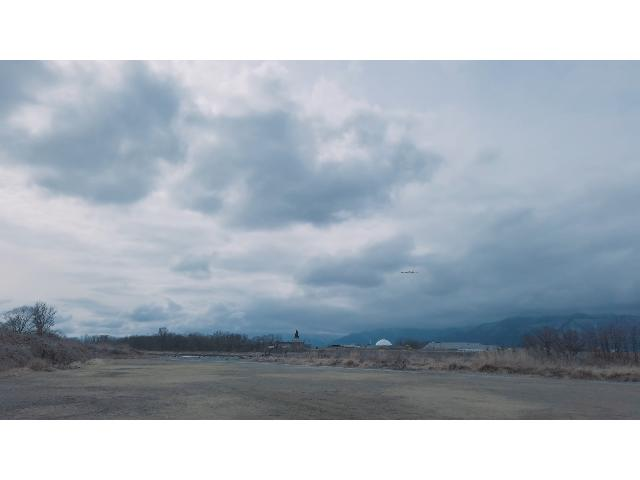Anti-Drone: (398, 268, 420, 278)
